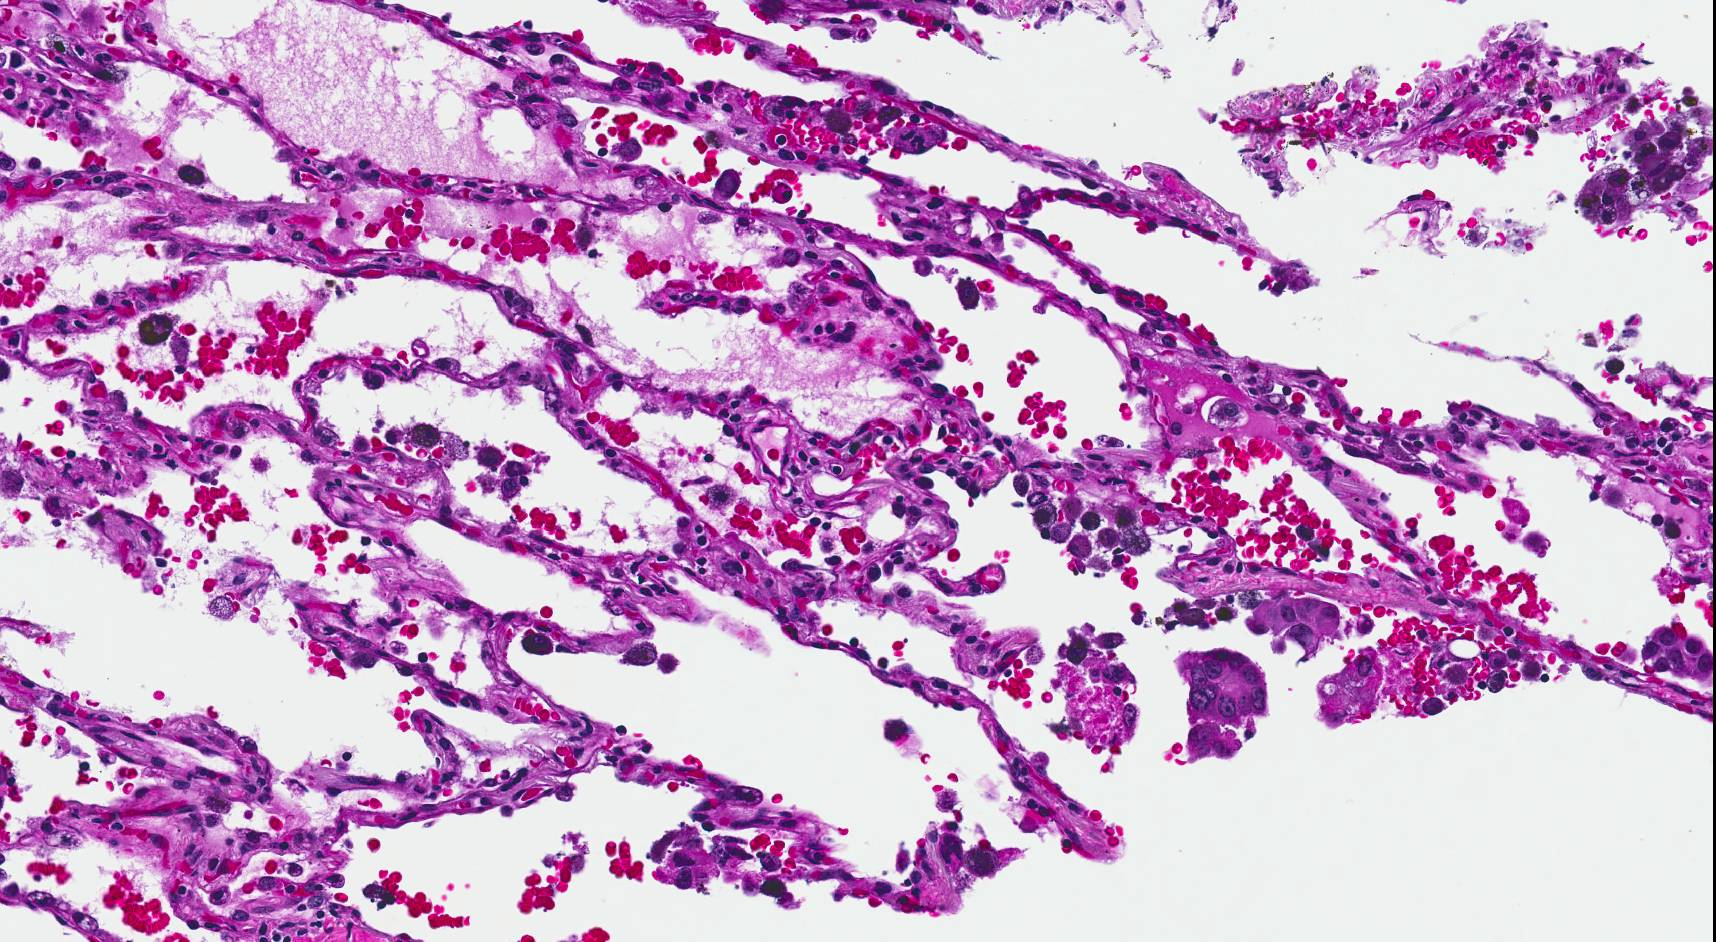stas: (1172, 645, 1274, 763), (1241, 593, 1340, 658), (1640, 624, 1716, 680)
